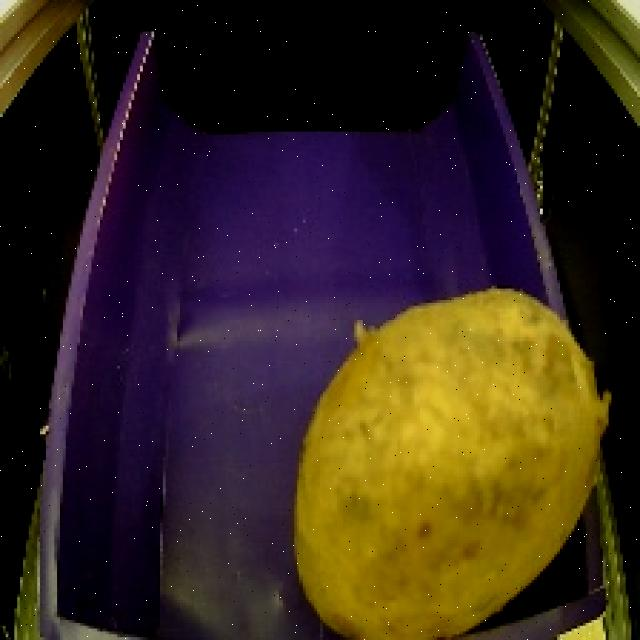full_potato: (280, 275, 622, 640)
